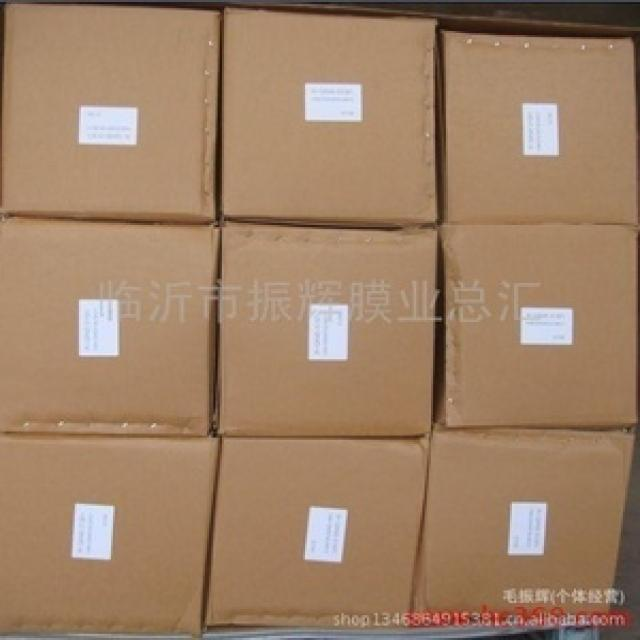box: (213, 221, 439, 438), (0, 2, 220, 223), (0, 215, 218, 436), (220, 8, 437, 225), (407, 427, 636, 628), (0, 431, 220, 634), (203, 436, 433, 630), (435, 223, 640, 429), (442, 33, 640, 227)
